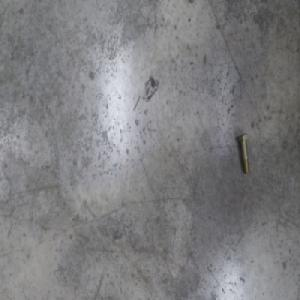Bolt: (236, 132, 249, 174)
